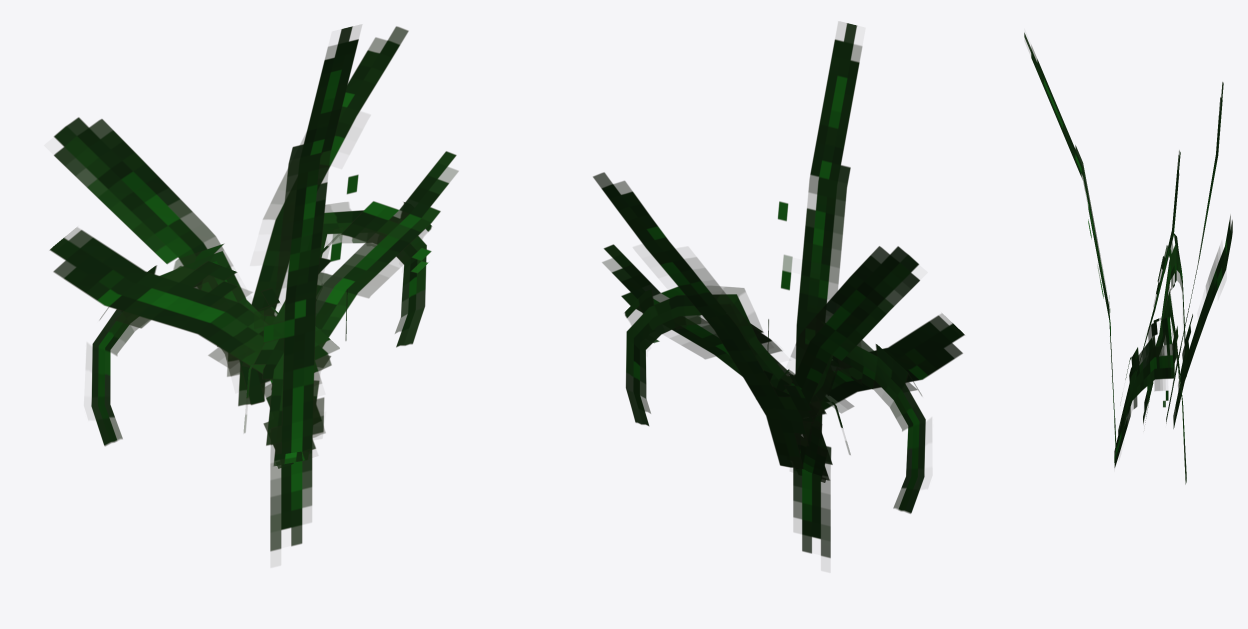
File: leaves2.glb
3 views of the same model, side by side, from view 1: azimuth 30°, elevation 25°; view 2: azimuth 150°, elevation 25°; view 3: azimuth 270°, elevation 25° (orthographic). The views are drawn at different scales.
Parts seen in each view (by area): view 1: leaves1_geo, leaves3_geo, leaves2_geo, leaves5_geo, leaves4_geo, leaves6_geo, leaves7_geo; view 2: leaves1_geo, leaves4_geo, leaves2_geo, leaves7_geo, leaves3_geo, leaves6_geo, leaves5_geo; view 3: leaves5_geo, leaves4_geo, leaves1_geo, leaves7_geo, leaves6_geo, leaves3_geo, leaves2_geo.
Part boxes in pixels (x1,y1,x2,y2): leaves1_geo: (254, 25, 361, 551); leaves3_geo: (49, 227, 339, 468); leaves2_geo: (54, 117, 280, 405); leaves5_geo: (244, 151, 458, 466); leaves4_geo: (217, 26, 408, 406); leaves6_geo: (91, 244, 278, 446); leaves7_geo: (242, 202, 431, 389); leaves1_geo: (768, 22, 861, 558); leaves4_geo: (593, 172, 813, 468); leaves2_geo: (764, 246, 919, 453); leaves7_geo: (624, 286, 826, 425); leaves3_geo: (800, 313, 964, 482); leaves6_geo: (776, 321, 925, 513); leaves5_geo: (602, 244, 850, 480); leaves5_geo: (1114, 317, 1178, 467); leaves4_geo: (1173, 215, 1232, 428); leaves1_geo: (1024, 32, 1116, 456); leaves7_geo: (1143, 280, 1186, 484); leaves6_geo: (1145, 233, 1186, 422); leaves3_geo: (1114, 150, 1180, 465); leaves2_geo: (1166, 82, 1223, 423).
Bounding box in the file's own units: 0.4719 × 0.5491 × 0.1861.
Materials: 7 (7 with a texture image).
